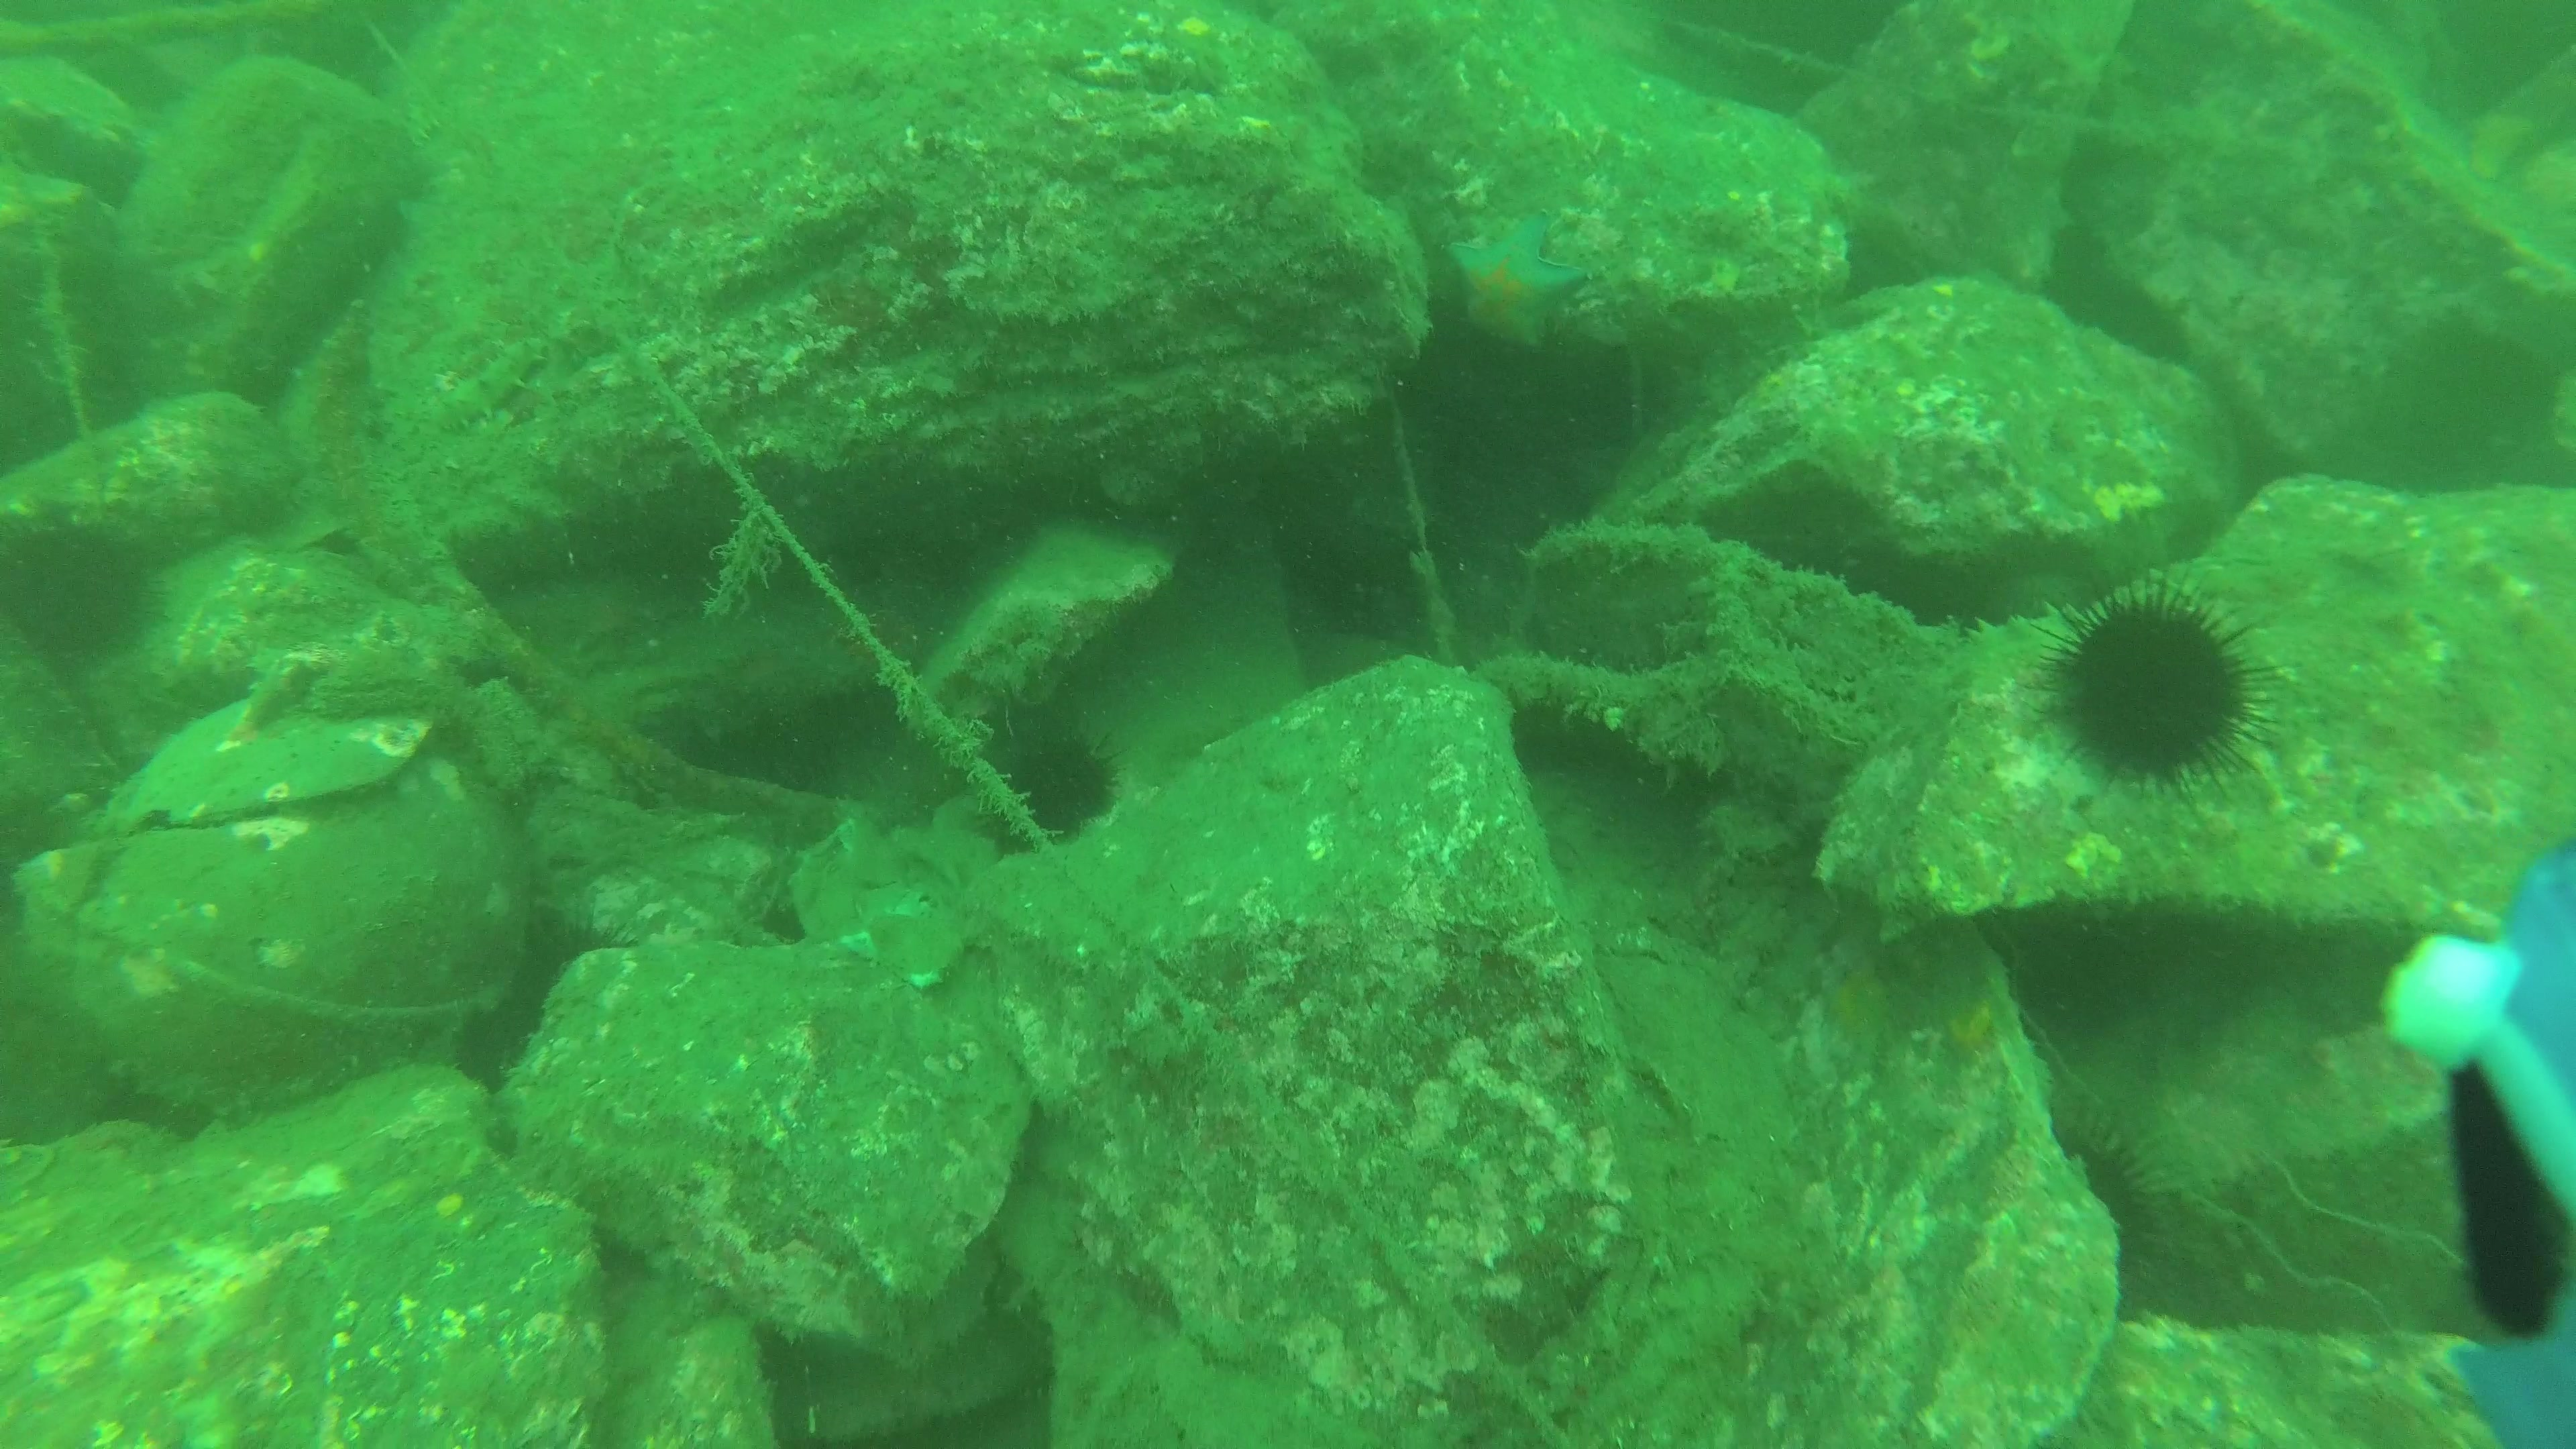echinus: (2029, 563, 2284, 805), (982, 722, 1123, 847)
starfish: (1438, 212, 1596, 361)
